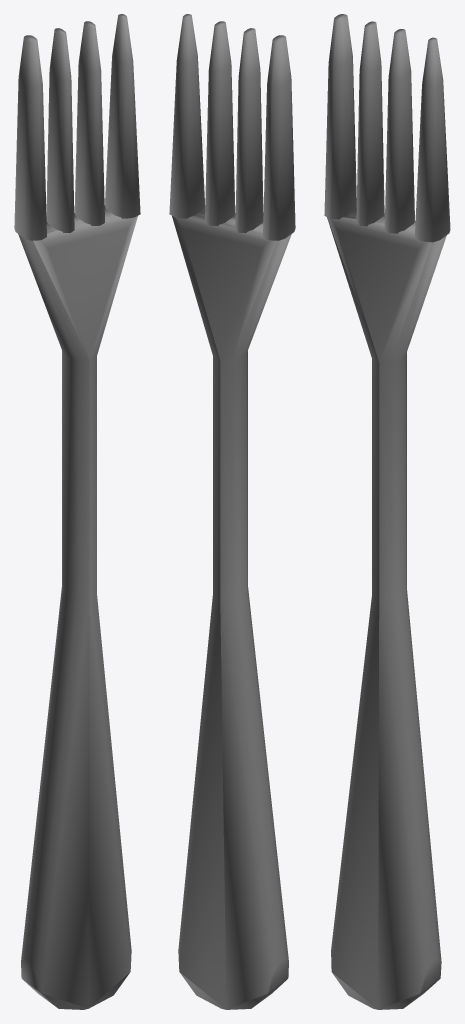
File: tenedor.obj
3 views of the same model, side by side, from view 1: azimuth 30°, elevation 25°; view 2: azimuth 150°, elevation 25°; view 3: azimuth 330°, elevation 25° (orthographic).
Visible parts, largest first — view 1: tenedor; view 2: tenedor; view 3: tenedor.
Part boxes in pixels (bbox=[...]): tenedor: bbox=[14, 14, 140, 1009]; tenedor: bbox=[169, 14, 295, 1009]; tenedor: bbox=[324, 14, 450, 1009].
Bounding box in the file's own units: 0.0903 × 0.7328 × 0.028.
1 material, 1 textured.
